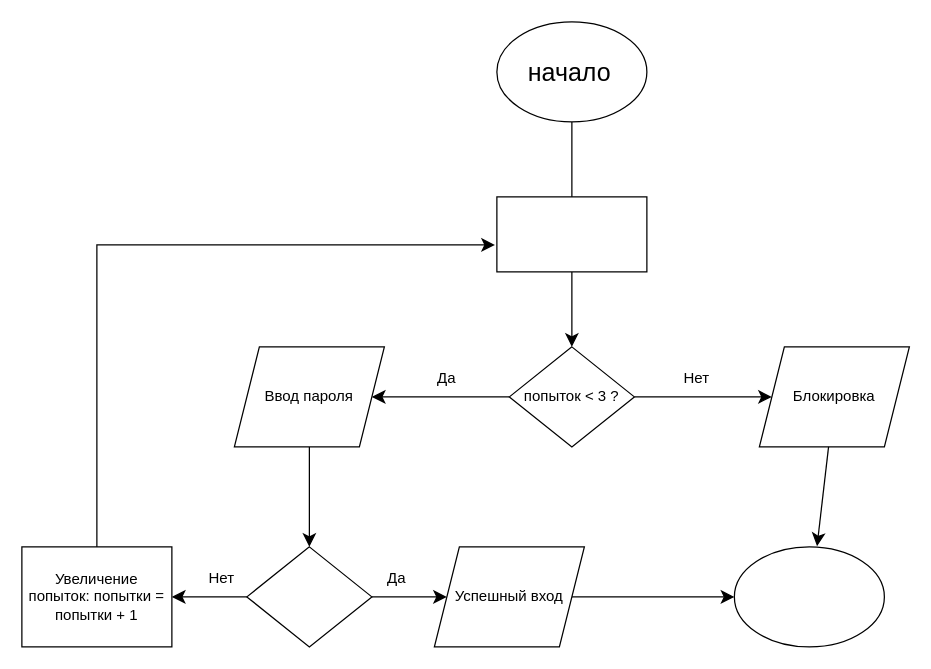
Image size: 931x669. Some labels were removed from this diagram. Here are the shapes that lost their labels. From the top down, the centre of each, then its label:
At pixel 571 234: "количество попыток ; начальное количество = 0;".
At pixel 309 596: "Пароль верный ?".
At pixel 808 596: "конец".
